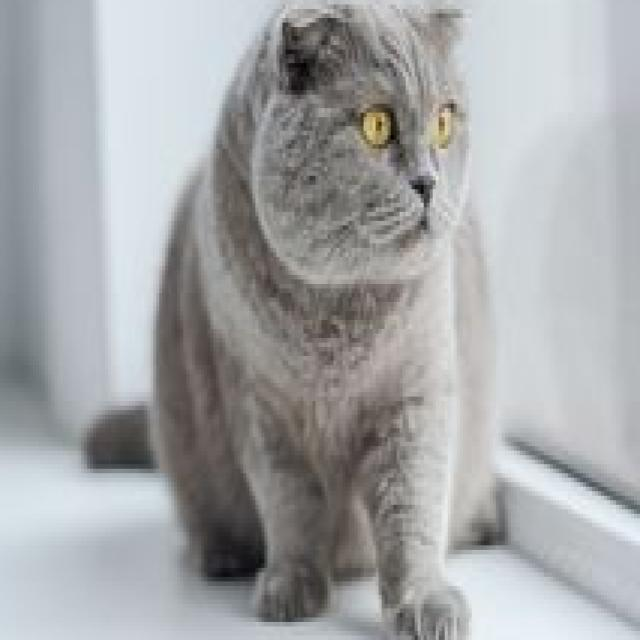Scottish Fold: (84, 0, 502, 640)
